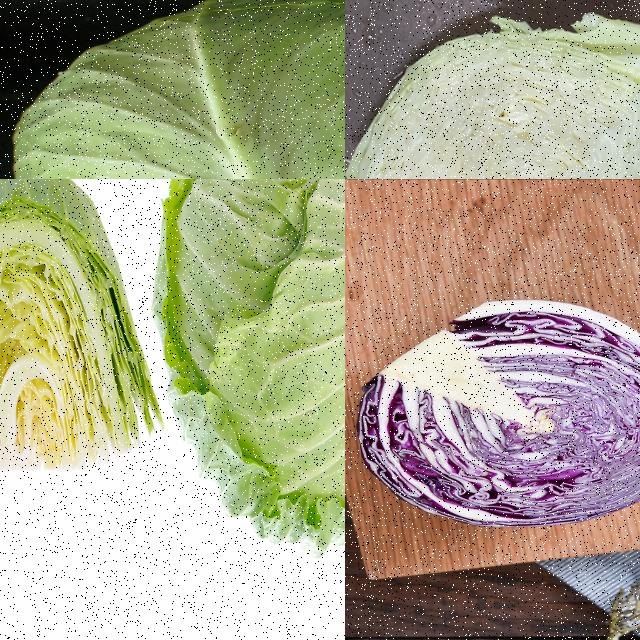cabbage: (148, 179, 344, 557), (367, 303, 639, 531), (5, 0, 344, 178), (345, 4, 639, 178), (0, 179, 166, 485)
